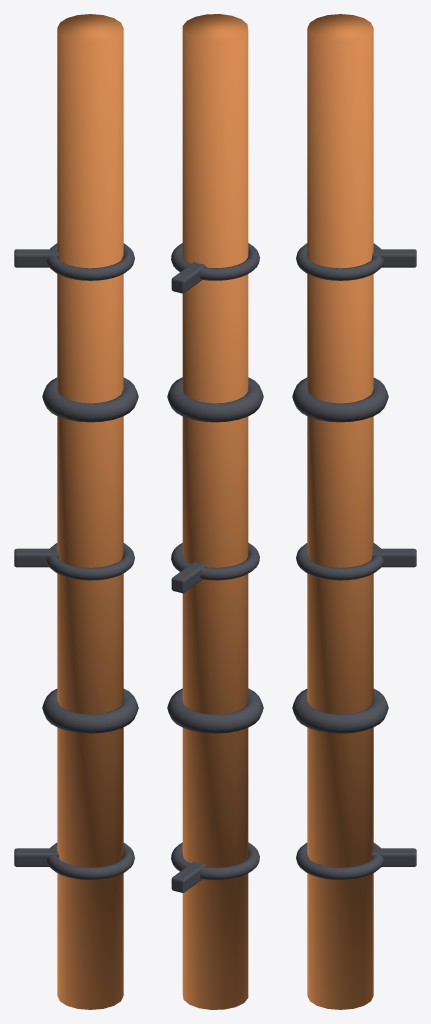
The model's file is Wall_PipeVertical.fbx.
The picture shows the model from 3 angles, left to right: view 1: azimuth 90°, elevation 25°; view 2: azimuth 150°, elevation 25°; view 3: azimuth 270°, elevation 25°; orthographic projection.
Parts seen in each view (by area): view 1: Wall_PipeVertical; view 2: Wall_PipeVertical; view 3: Wall_PipeVertical.
Boxes of the visible parts, x1=… form: Wall_PipeVertical: x1=14, y1=14, x2=138, y2=1009; Wall_PipeVertical: x1=167, y1=14, x2=263, y2=1009; Wall_PipeVertical: x1=292, y1=14, x2=416, y2=1009.
Size of the model in its own units: 0.38 by 4.2 by 0.49.
